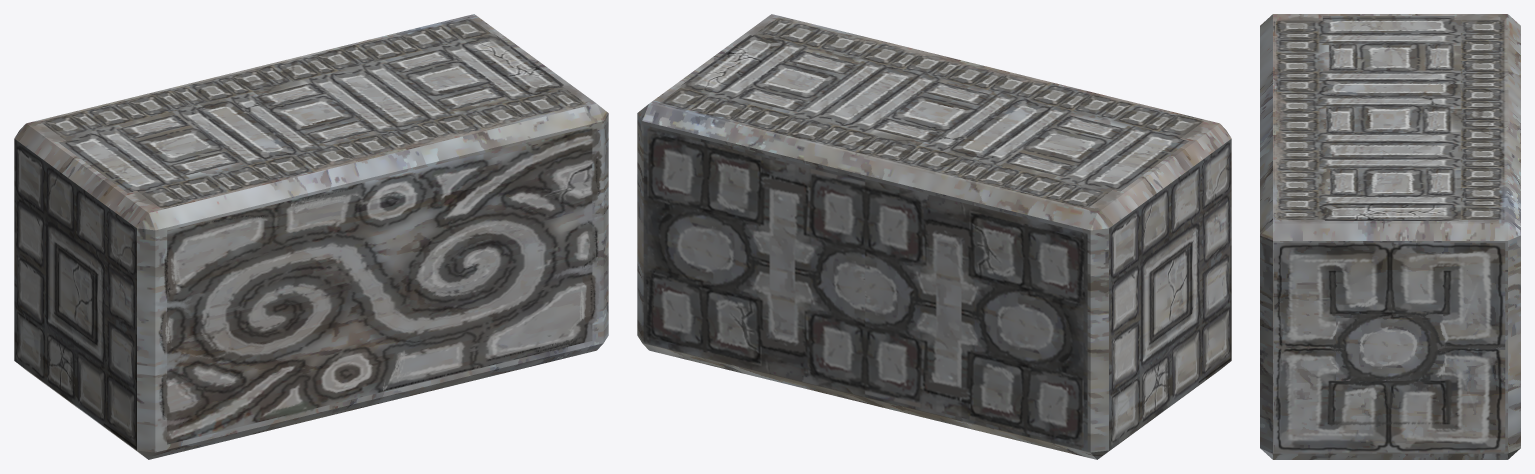
The model's file is oneby2.fbx.
3 renders of one model, left to right at view 1: azimuth 30°, elevation 25°; view 2: azimuth 150°, elevation 25°; view 3: azimuth 270°, elevation 25°, orthographic. The views are drawn at different scales.
Visible parts, largest first — view 1: oneby2; view 2: oneby2; view 3: oneby2.
Part boxes in pixels (box(x1,y1,x2,y2)): oneby2: box(14, 14, 608, 459); oneby2: box(637, 14, 1231, 459); oneby2: box(1260, 14, 1520, 459).
Size of the model in its own units: 2 by 1 by 1.
